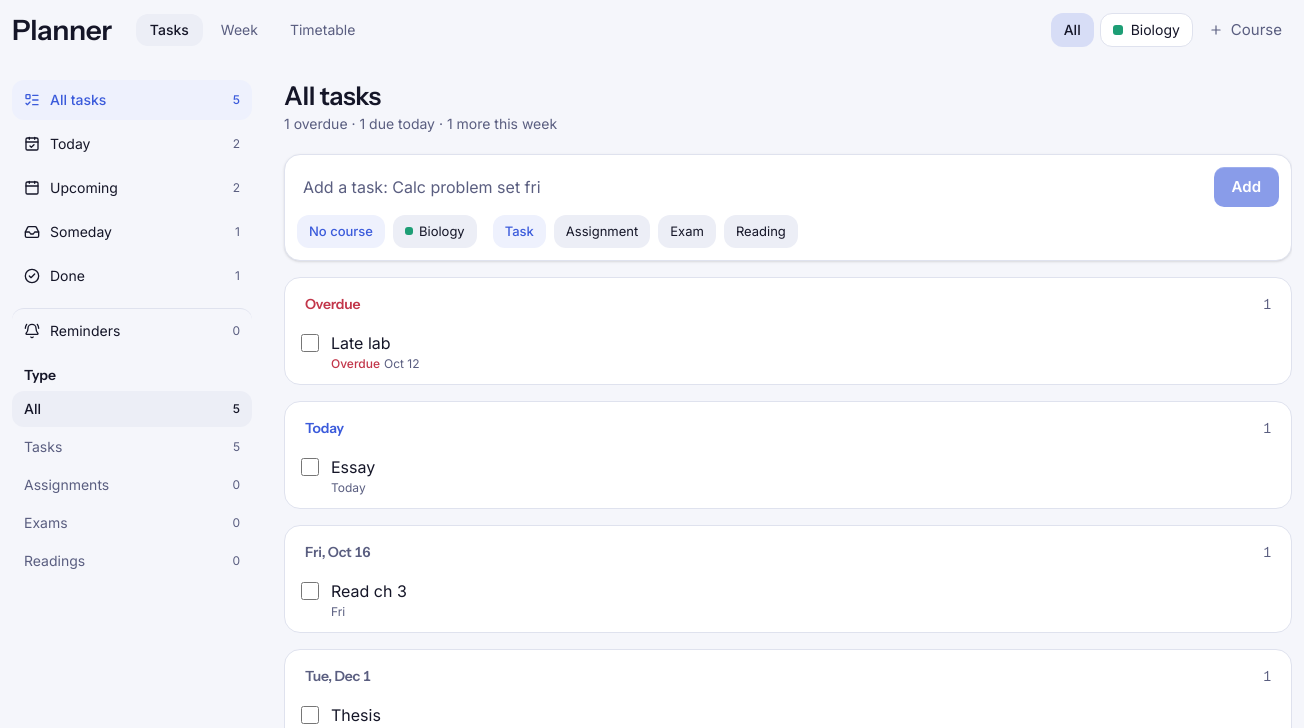
Scenario: Tasks: the lists rail and day groups › shows the counts in the rail and filters when a list is chosen
Expected: the button "All tasks 5" is shown, [12, 80, 252, 120]
What coordinates should you click on to do the following:
click the button "Today 2"
I would click on:
 (132, 144)
Its box is [12, 124, 252, 164].
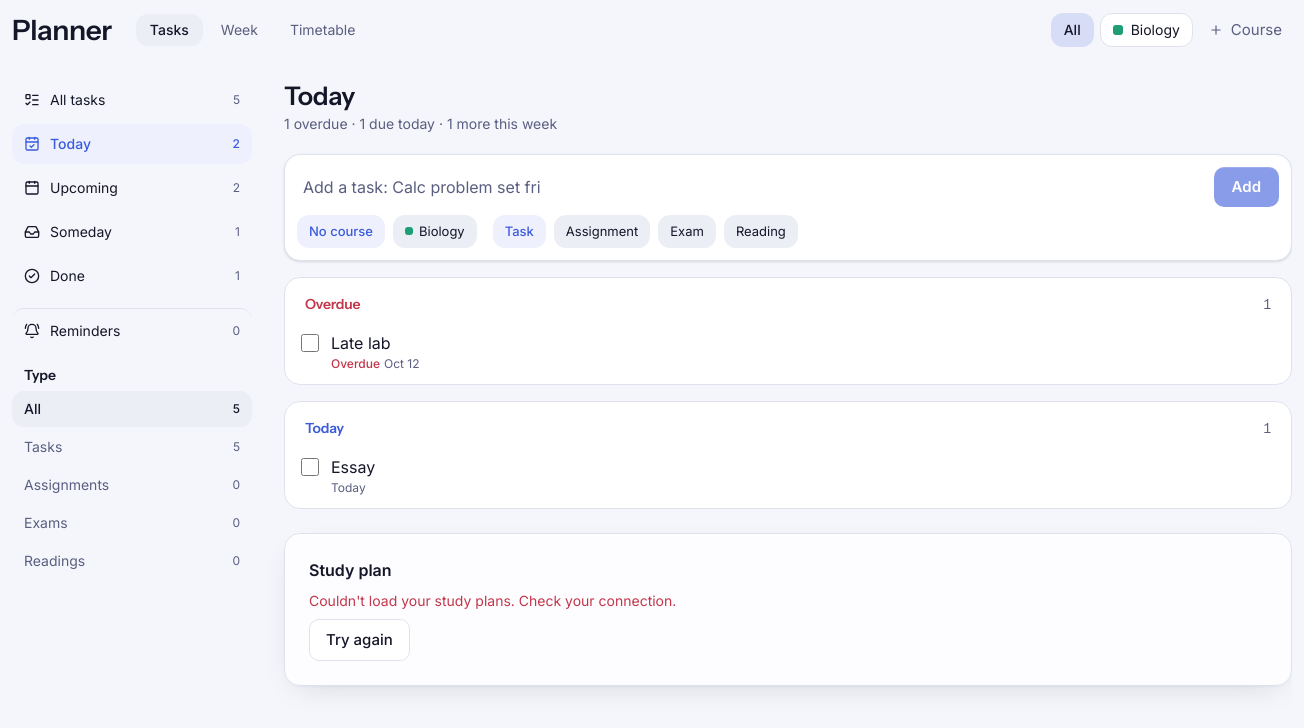
Expected: the button with aria-label "Edit Essay" is shown, [331, 456, 375, 478]
Result: the heading "Today" is shown at [284, 80, 355, 111]
What coordinates should you click on to do the following:
click the button "Someday 1"
I would click on:
 (132, 232)
Its box is [12, 212, 252, 252].
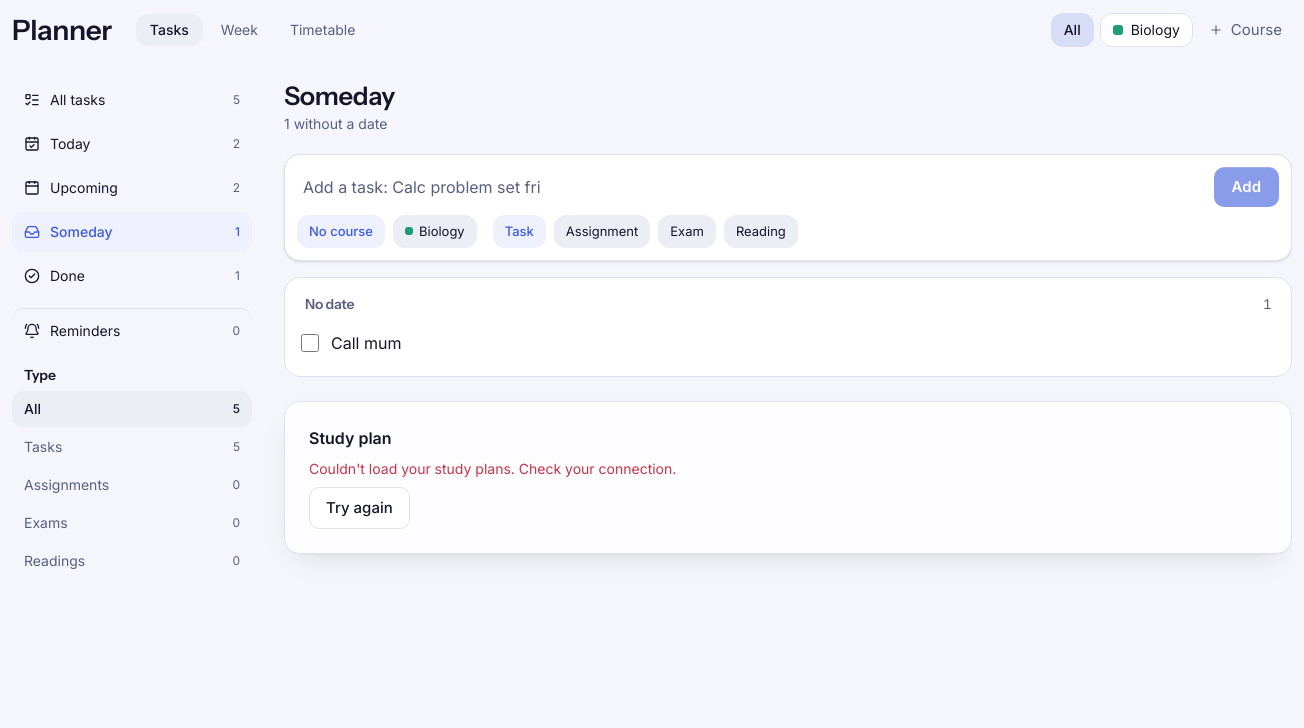
Result: the button with aria-label "Edit Call mum" is shown at [331, 332, 401, 354]
